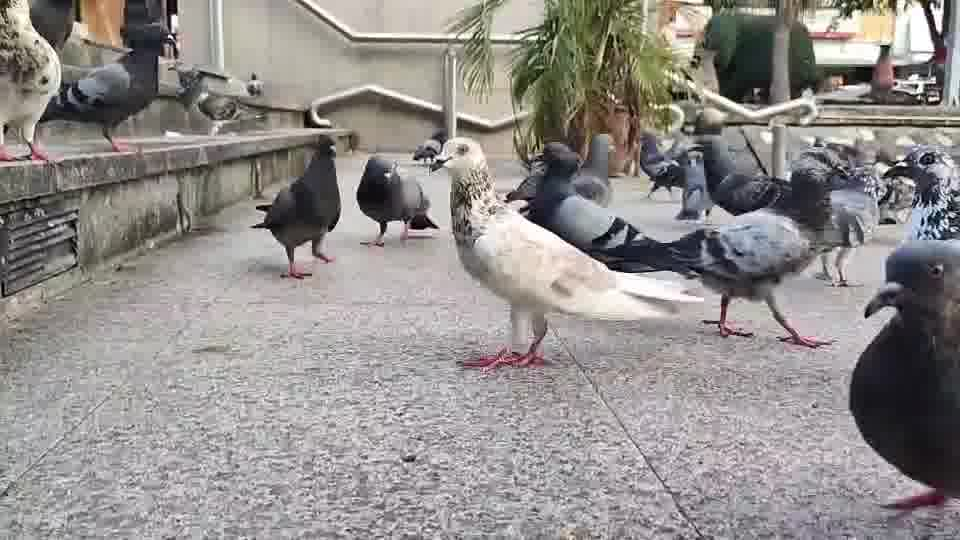Pigeon: (504, 140, 834, 349), (429, 135, 690, 373), (848, 237, 959, 511), (50, 0, 180, 152), (249, 133, 342, 279), (0, 0, 63, 163), (355, 155, 440, 246), (881, 145, 959, 240), (167, 60, 265, 135), (569, 133, 613, 207), (411, 127, 448, 165)
